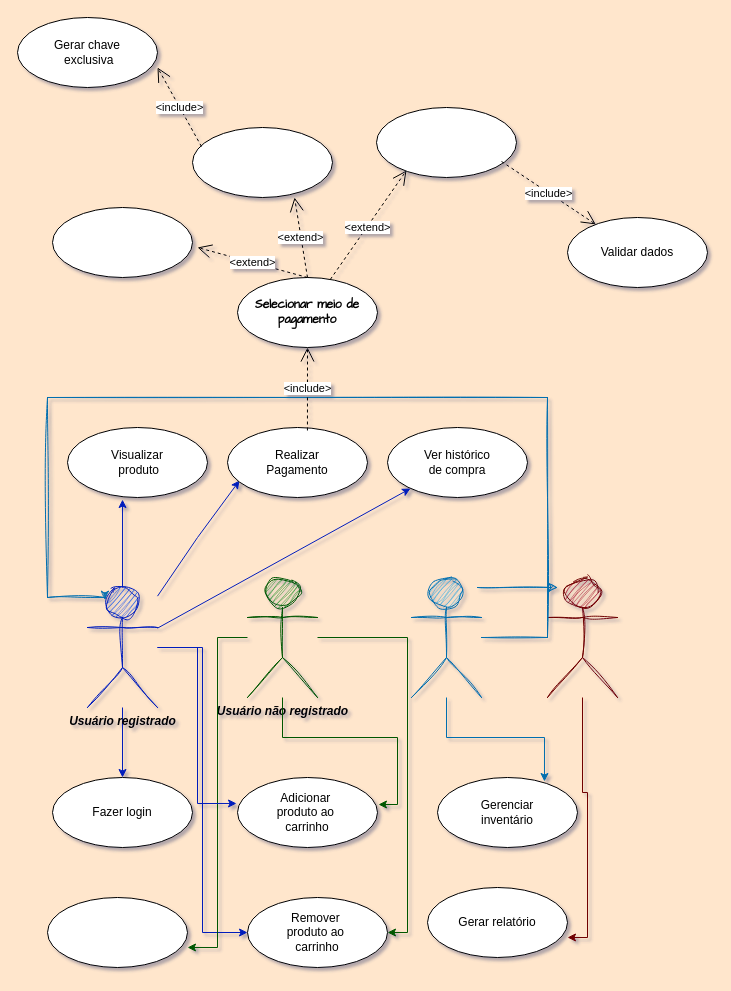
Some shapes in this 731 by 991 pixel diagram are drawn without their labels. The centre of each missing label's shape, as x and y in pixels:
"Administrador" belongs at point (446, 637).
"Boleto" belongs at point (122, 242).
"cadastrar conta" belongs at point (117, 932).
"Cartão de Crédito" belongs at point (446, 142).
"Gerente" belongs at point (582, 637).
"PIX" belongs at point (262, 162).
